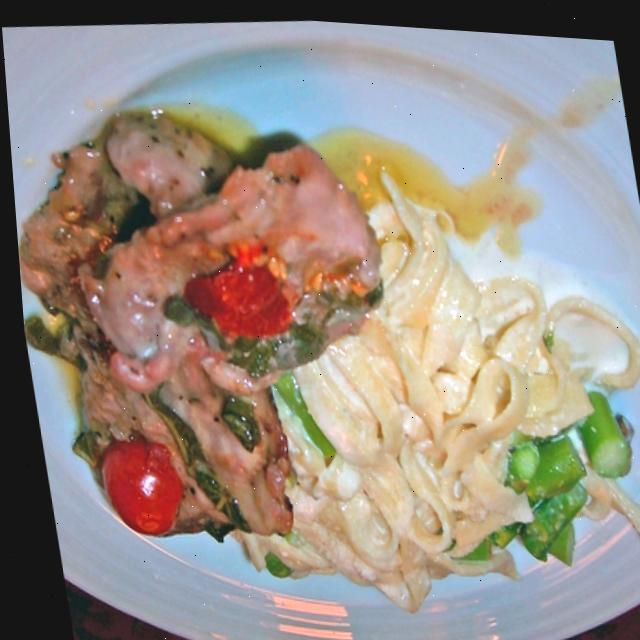猪肉菜式: (2, 31, 455, 640)
